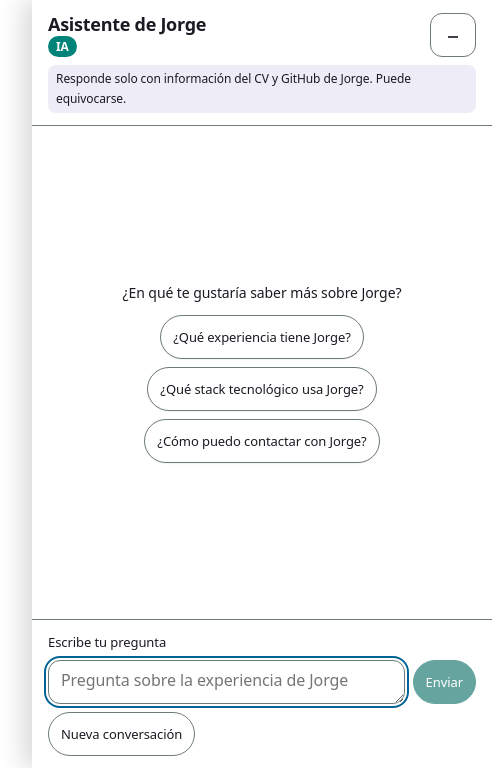
Test: RF-F65 — la variante cajón › abrir y contraer › el botón de la cabecera contrae el panel
Click the button named "Contraer el chat". click: point(453, 34)
box: left=430, top=12, right=476, bottom=56
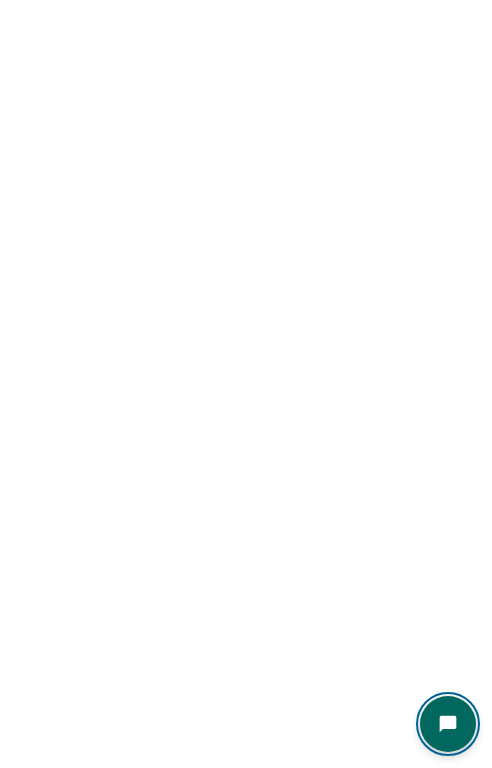
Expected: the button named "Abrir el asistente de Jorge" is shown, left=420, top=696, right=476, bottom=752
Expected: the label labelled "Escribe tu pregunta" is gone
